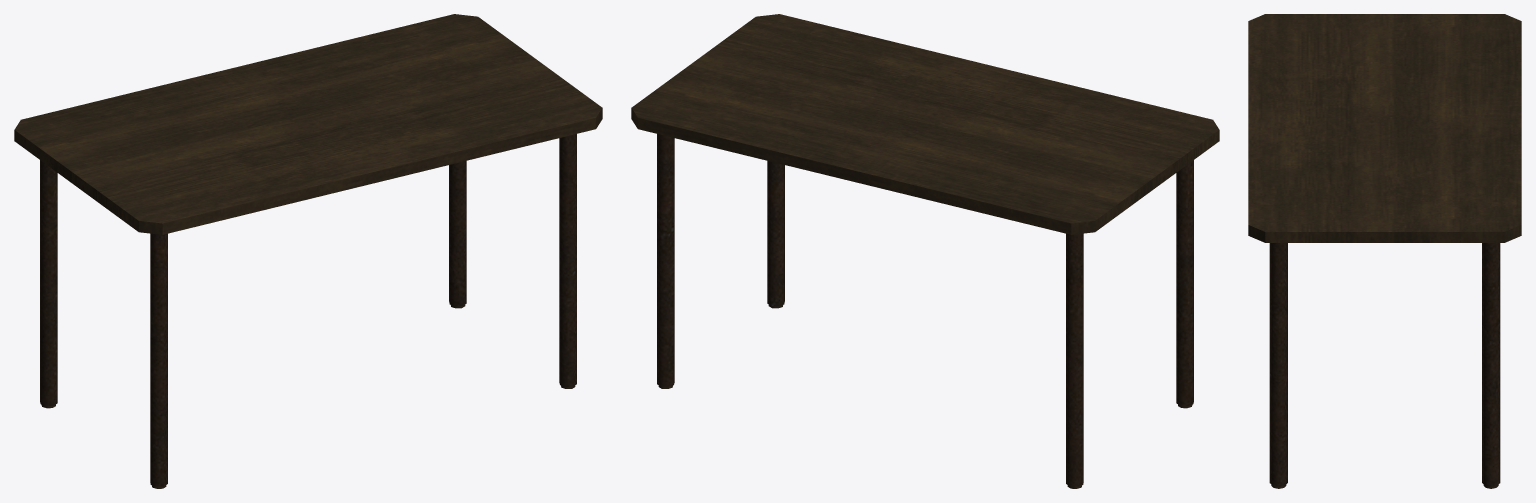
The model's file is table_large_1_3.fbx.
3 views of the same model, side by side, from view 1: azimuth 30°, elevation 25°; view 2: azimuth 150°, elevation 25°; view 3: azimuth 270°, elevation 25° (orthographic). The views are drawn at different scales.
Visible parts, largest first — view 1: table_large_1_3; view 2: table_large_1_3; view 3: table_large_1_3.
Boxes of the visible parts, left/top/right/bottom form: table_large_1_3: left=14, top=14, right=602, bottom=488; table_large_1_3: left=631, top=14, right=1219, bottom=488; table_large_1_3: left=1248, top=14, right=1521, bottom=488.
Size of the model in its own units: 1.7 by 0.9 by 0.97.
